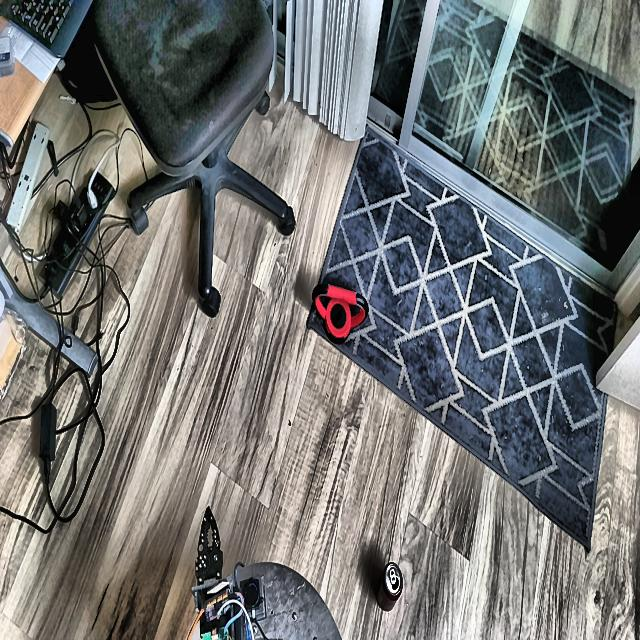Can: (377, 563, 402, 610)
